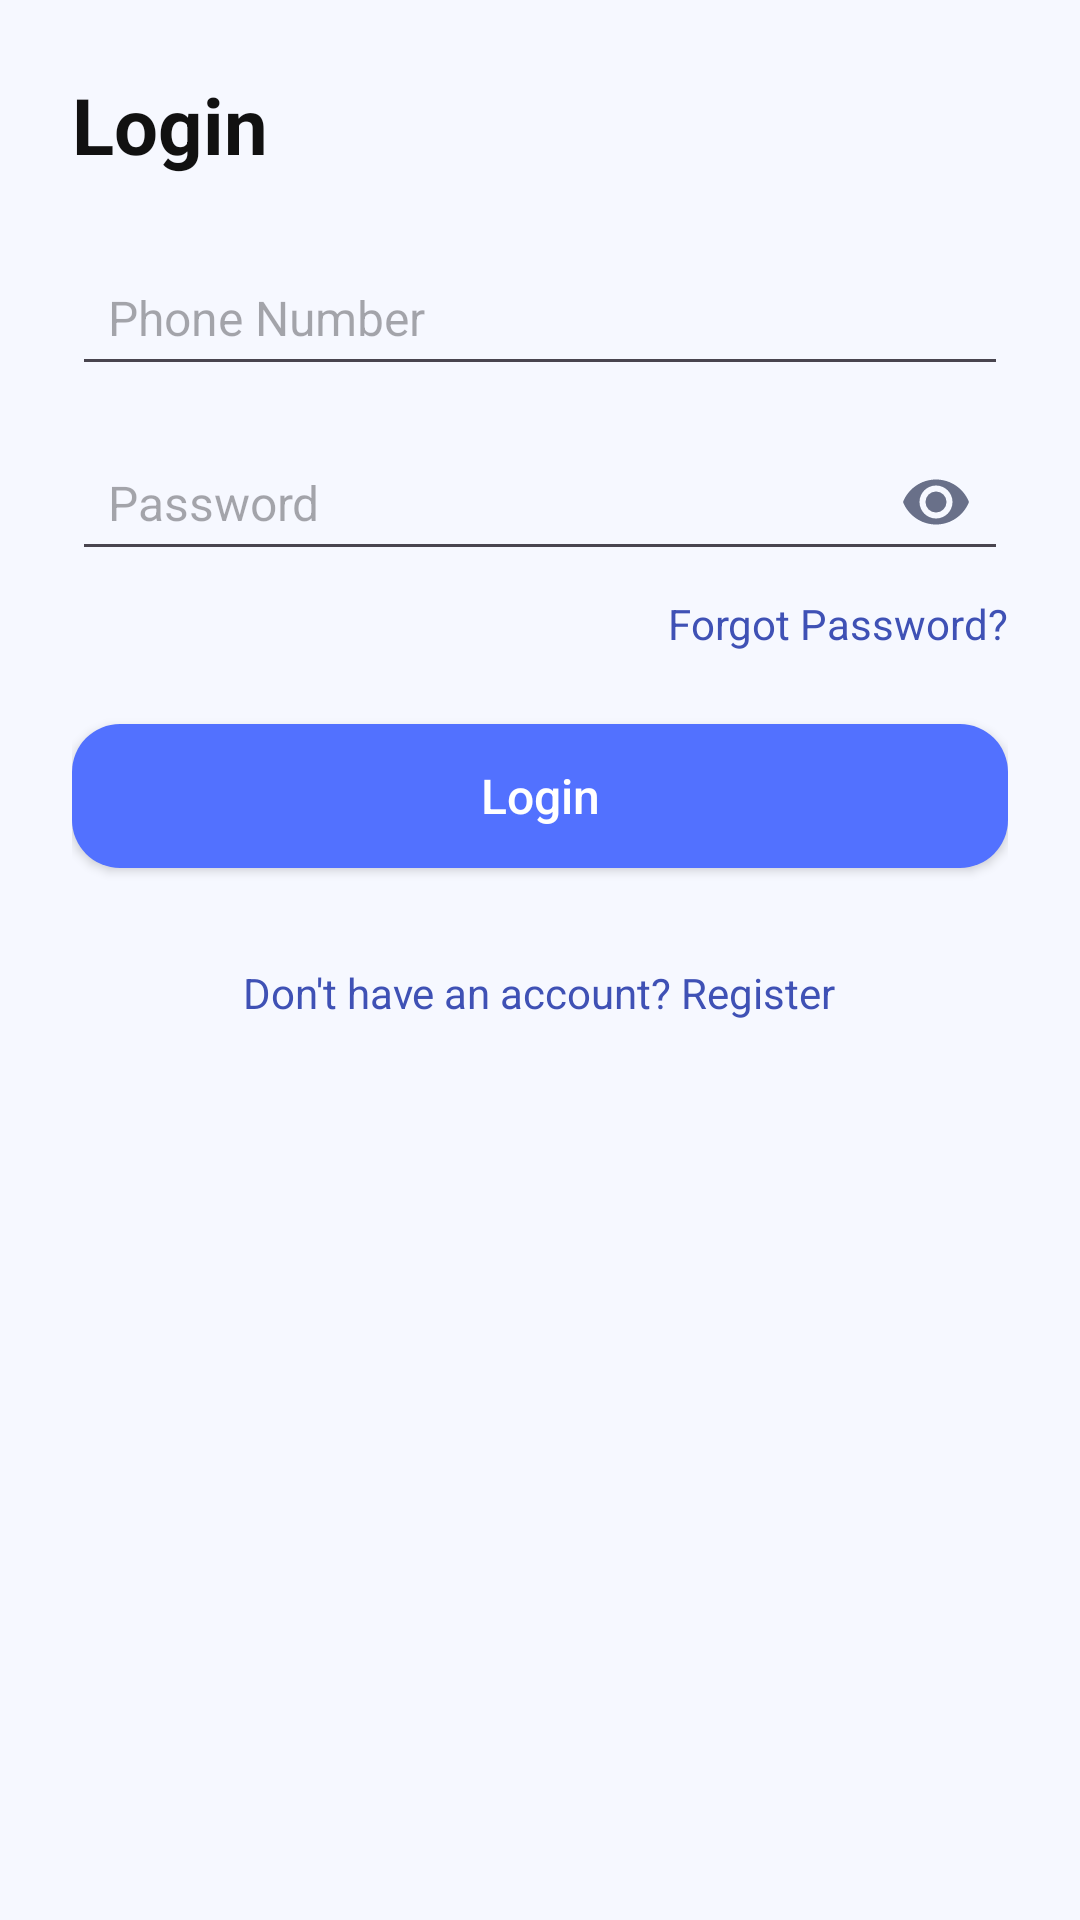

Screen size 1080×1920. Icon name, then its center in pixels as (x=x, y=y):
eye: (x=936, y=502)
